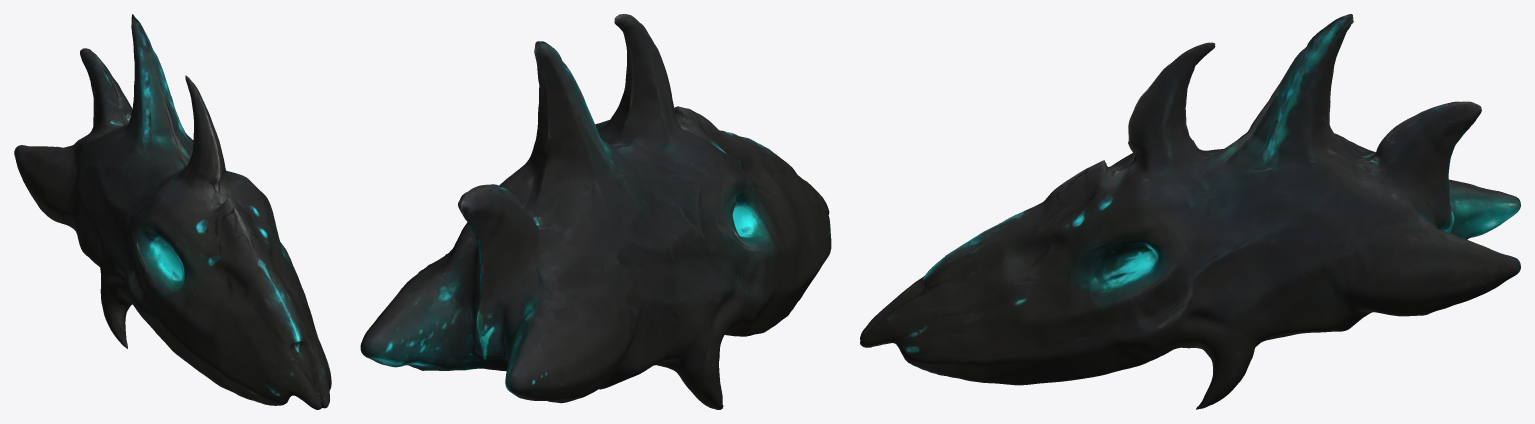
File: chicken-talon.glb
The picture shows the model from 3 angles, left to right: view 1: azimuth 30°, elevation 25°; view 2: azimuth 150°, elevation 25°; view 3: azimuth 270°, elevation 25°; orthographic projection. The views are drawn at different scales.
Size of the model in its own units: 0.6726 by 1.18 by 1.99.
Materials: 1 (1 with a texture image).
